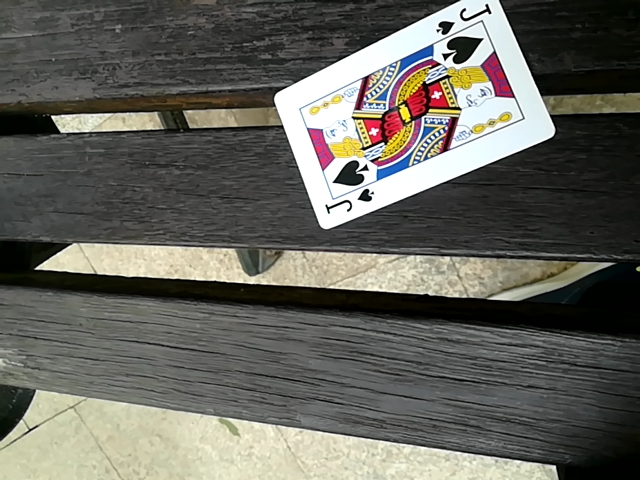ht j: (264, 1, 552, 227)
